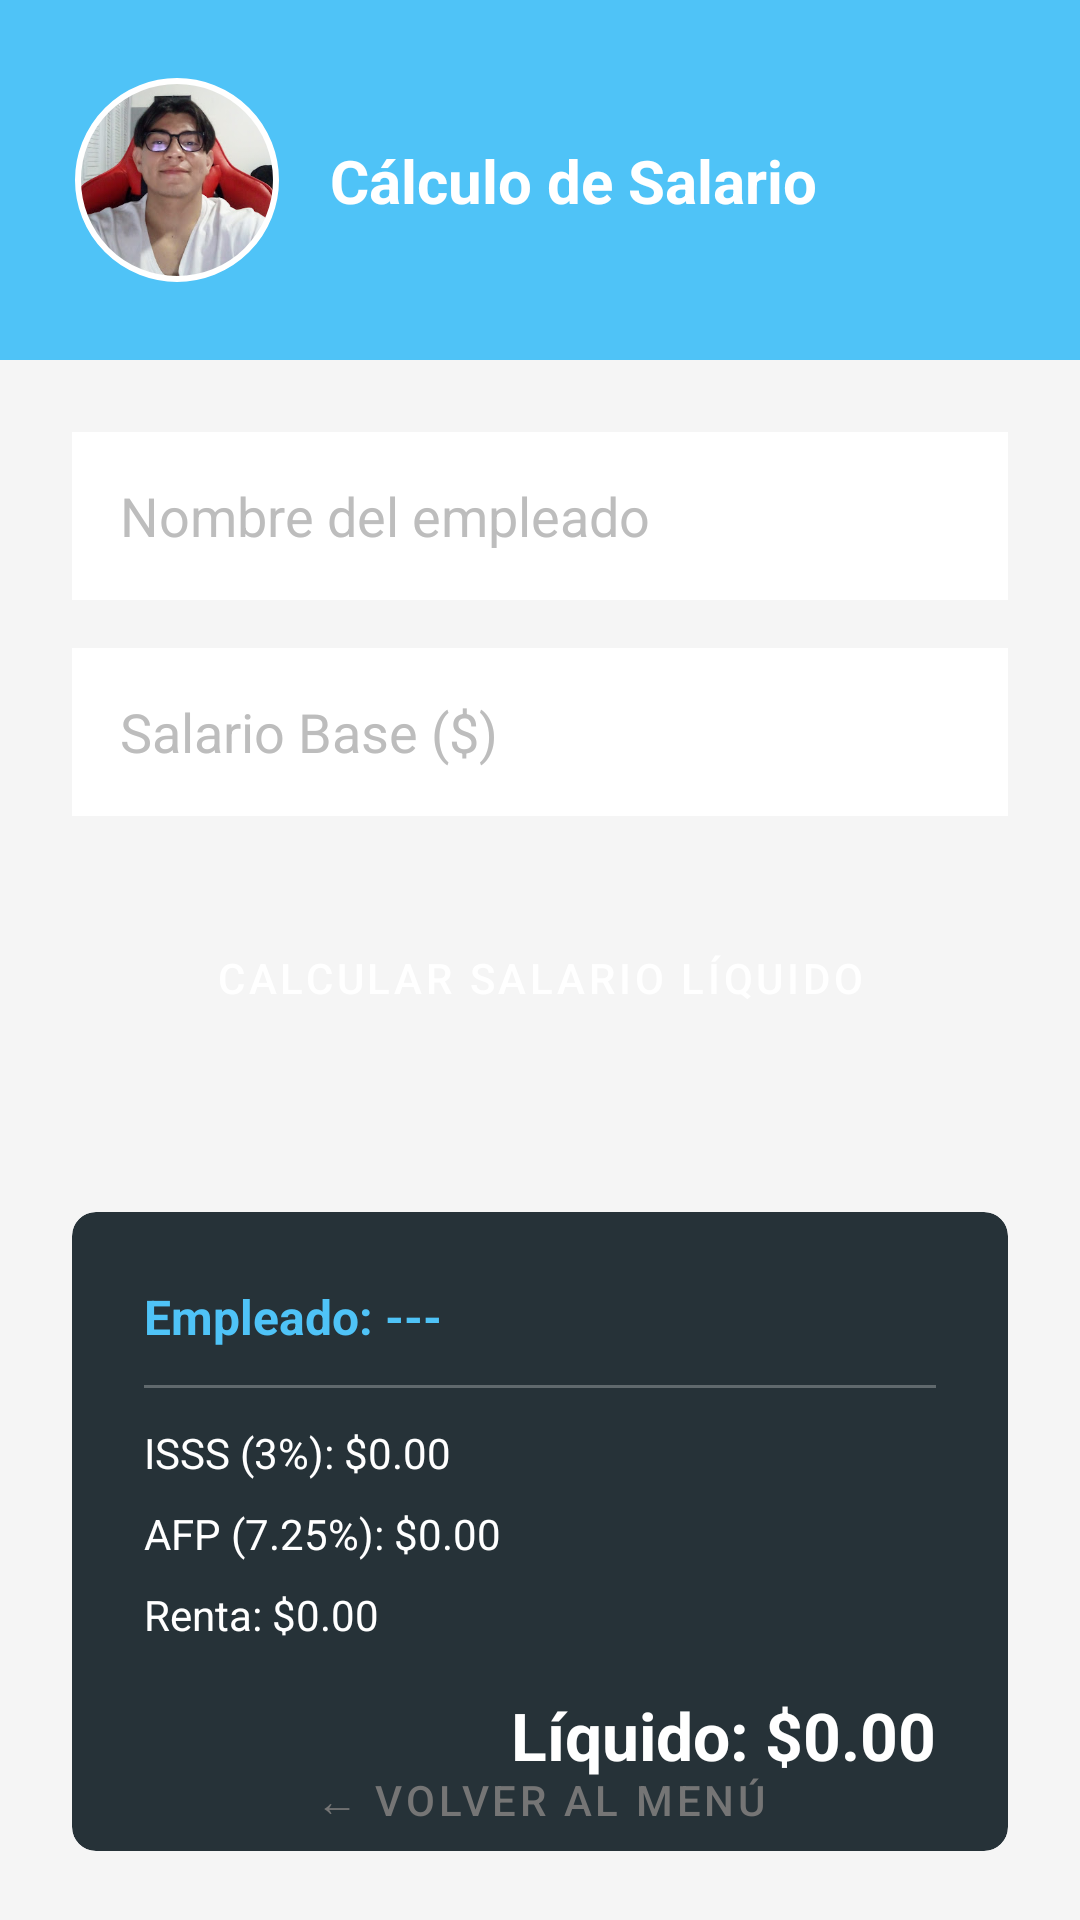

Screen size 1080*1920. Icon name, then its box in pixels as bbox=[x1, y1, x2, y2]:
mi foto: bbox=[75, 78, 279, 282]
